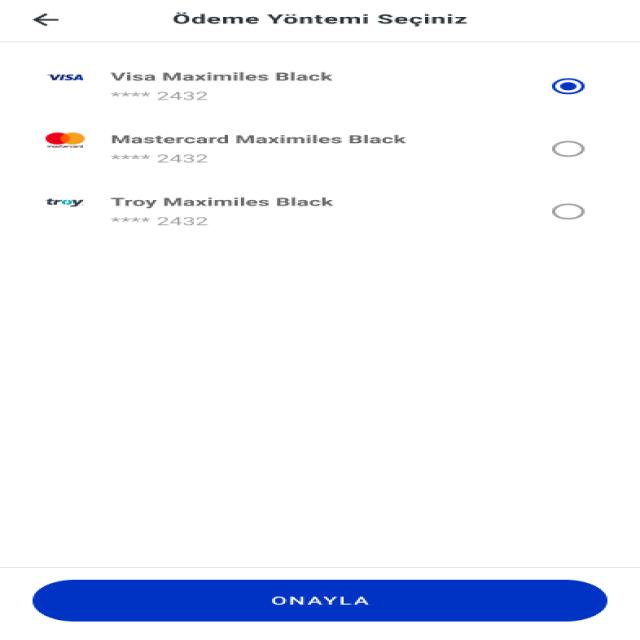QLabel: (169, 11, 471, 29), (107, 133, 405, 145), (104, 196, 332, 208), (109, 71, 331, 82), (260, 590, 374, 610), (108, 150, 215, 166), (107, 88, 214, 103), (106, 214, 218, 228)
VAppBar: (0, 0, 640, 43)
VBtn: (32, 580, 608, 622)
VFooter: (0, 566, 640, 640)
VIcon: (24, 12, 64, 28)
VImg: (35, 128, 94, 152), (35, 191, 92, 215), (36, 66, 94, 89)
VRadio: (547, 137, 590, 161), (542, 202, 590, 223), (548, 76, 588, 96)
